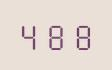eight: (44, 20, 68, 50), (69, 20, 93, 50)
four: (18, 20, 42, 50)
